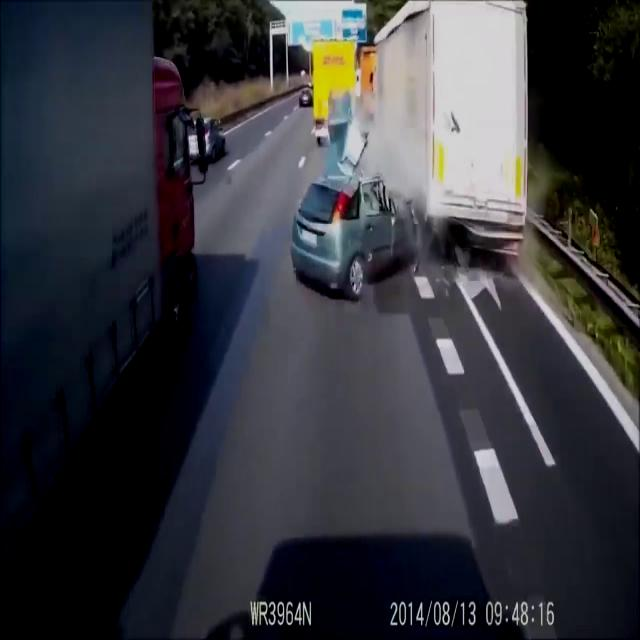accident: (292, 2, 526, 298)
